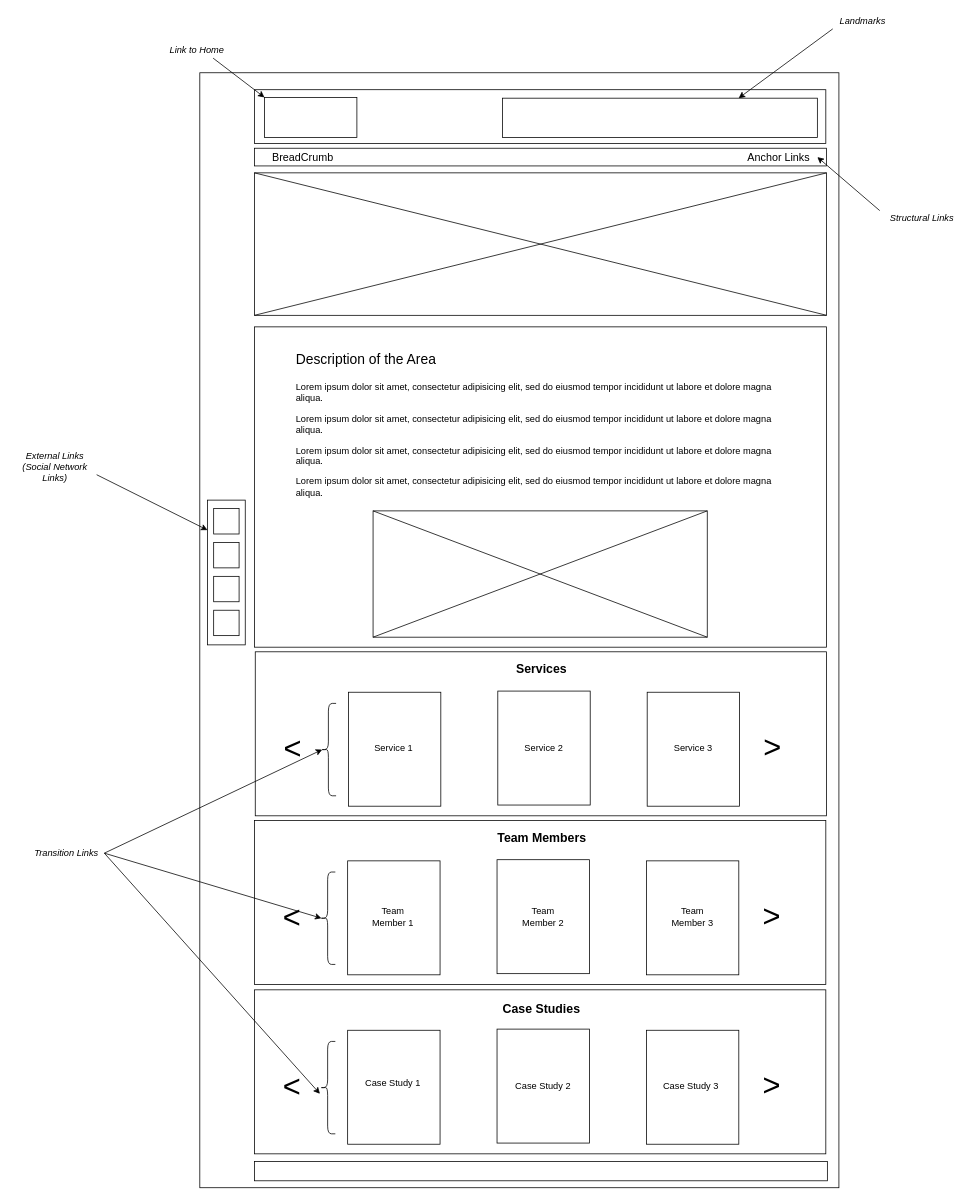
Image size: 977x1201. Some labels were removed from this diagram. The shapes that lost their labels are listed below. From the top down, each one's centre as x and y in pixels, then its label:
At point 310,117: "LOGO".
At point 659,117: "About Us Areas Services Industries Our Team Contact Us".
At point 540,243: "AREA NAME".
At point 539,573: "Possible Image".
At point 540,1171: "Footer".
